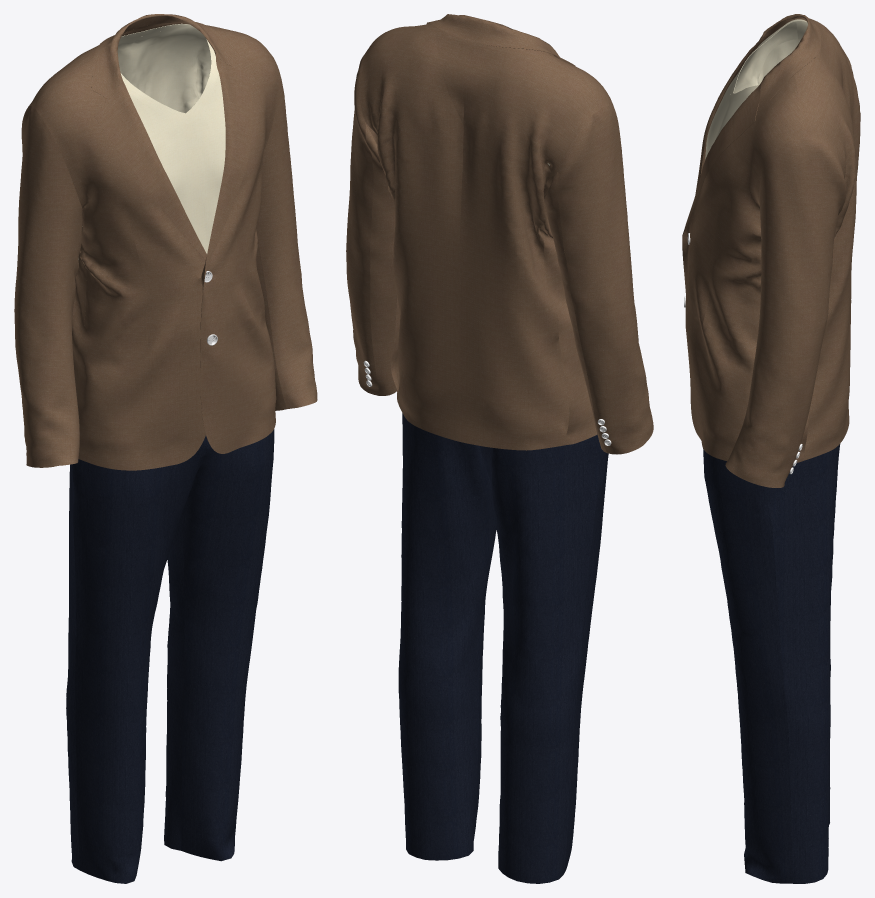
3 renders of one model, left to right at view 1: azimuth 30°, elevation 25°; view 2: azimuth 150°, elevation 25°; view 3: azimuth 270°, elevation 25°, orthographic. The views are drawn at different scales.
Visible parts, largest first — view 1: Body_Front (×2), Pattern_3489167, Body_Back, Collar, Ribbing_1; view 2: Body_Front, Pattern_3489167, Collar; view 3: Body_Front (×2), Pattern_3489167, Collar, Ribbing_1.
Boxes of the visible parts, x1=… form: Body_Front (×2): x1=14, y1=22, x2=317, y2=470; Pattern_3489167: x1=66, y1=429, x2=274, y2=883; Body_Back: x1=78, y1=25, x2=210, y2=259; Collar: x1=91, y1=14, x2=239, y2=98; Ribbing_1: x1=119, y1=23, x2=218, y2=124; Body_Front: x1=346, y1=24, x2=653, y2=454; Pattern_3489167: x1=398, y1=413, x2=608, y2=883; Collar: x1=426, y1=14, x2=575, y2=66; Body_Front (×2): x1=682, y1=18, x2=860, y2=487; Pattern_3489167: x1=703, y1=444, x2=840, y2=883; Collar: x1=759, y1=14, x2=820, y2=102; Ribbing_1: x1=728, y1=20, x2=806, y2=102.
Bounding box in the file's own units: 55.94 × 158 × 30.93.
10 materials, 9 textured.
